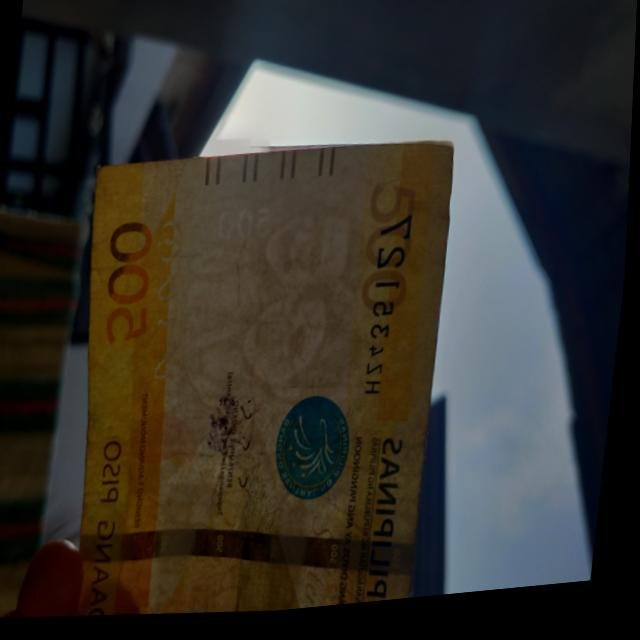security_thread: (82, 500, 421, 615)
see_through_mark: (135, 204, 202, 411)
value_watermark: (204, 201, 277, 263)
watermark: (160, 188, 381, 428)
